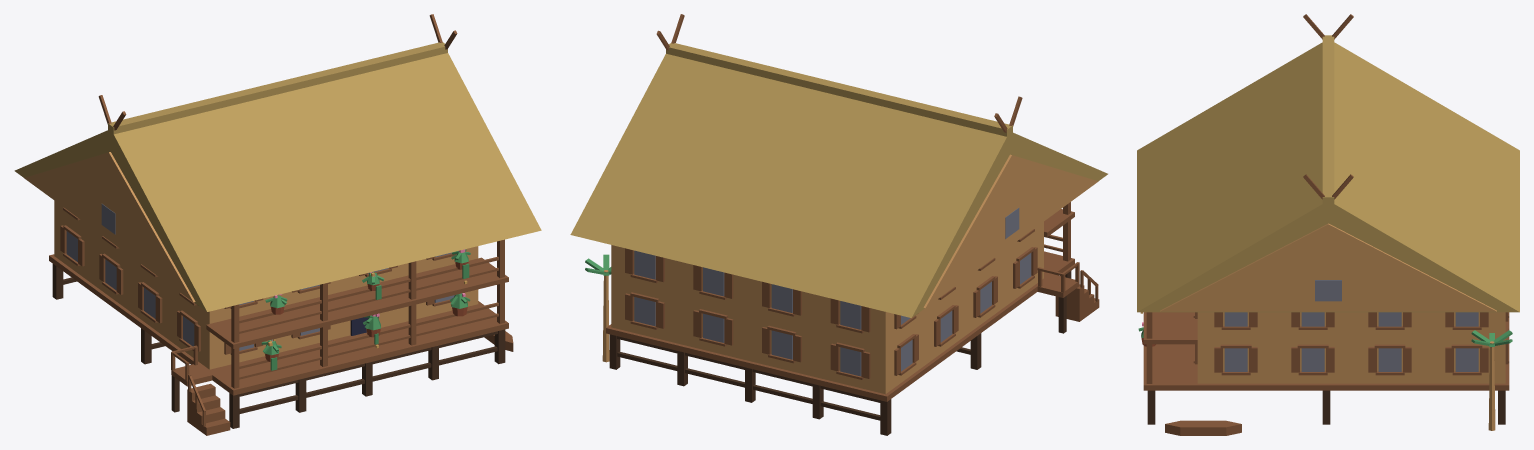
Rendered from house-2x2-2f-stilt-a.glb.
3 renders of one model, left to right at view 1: azimuth 30°, elevation 25°; view 2: azimuth 150°, elevation 25°; view 3: azimuth 270°, elevation 25°, orthographic. The views are drawn at different scales.
Visible parts, largest first — view 1: house-2x2-2f-stilt-a; view 2: house-2x2-2f-stilt-a; view 3: house-2x2-2f-stilt-a.
Boxes of the visible parts, x1,y1,x2,y2 form: house-2x2-2f-stilt-a: (14,14,541,435); house-2x2-2f-stilt-a: (570,14,1107,435); house-2x2-2f-stilt-a: (1137,14,1519,435).
Size of the model in its own units: 2.02 by 1.51 by 1.99.
1 material, 1 textured.
